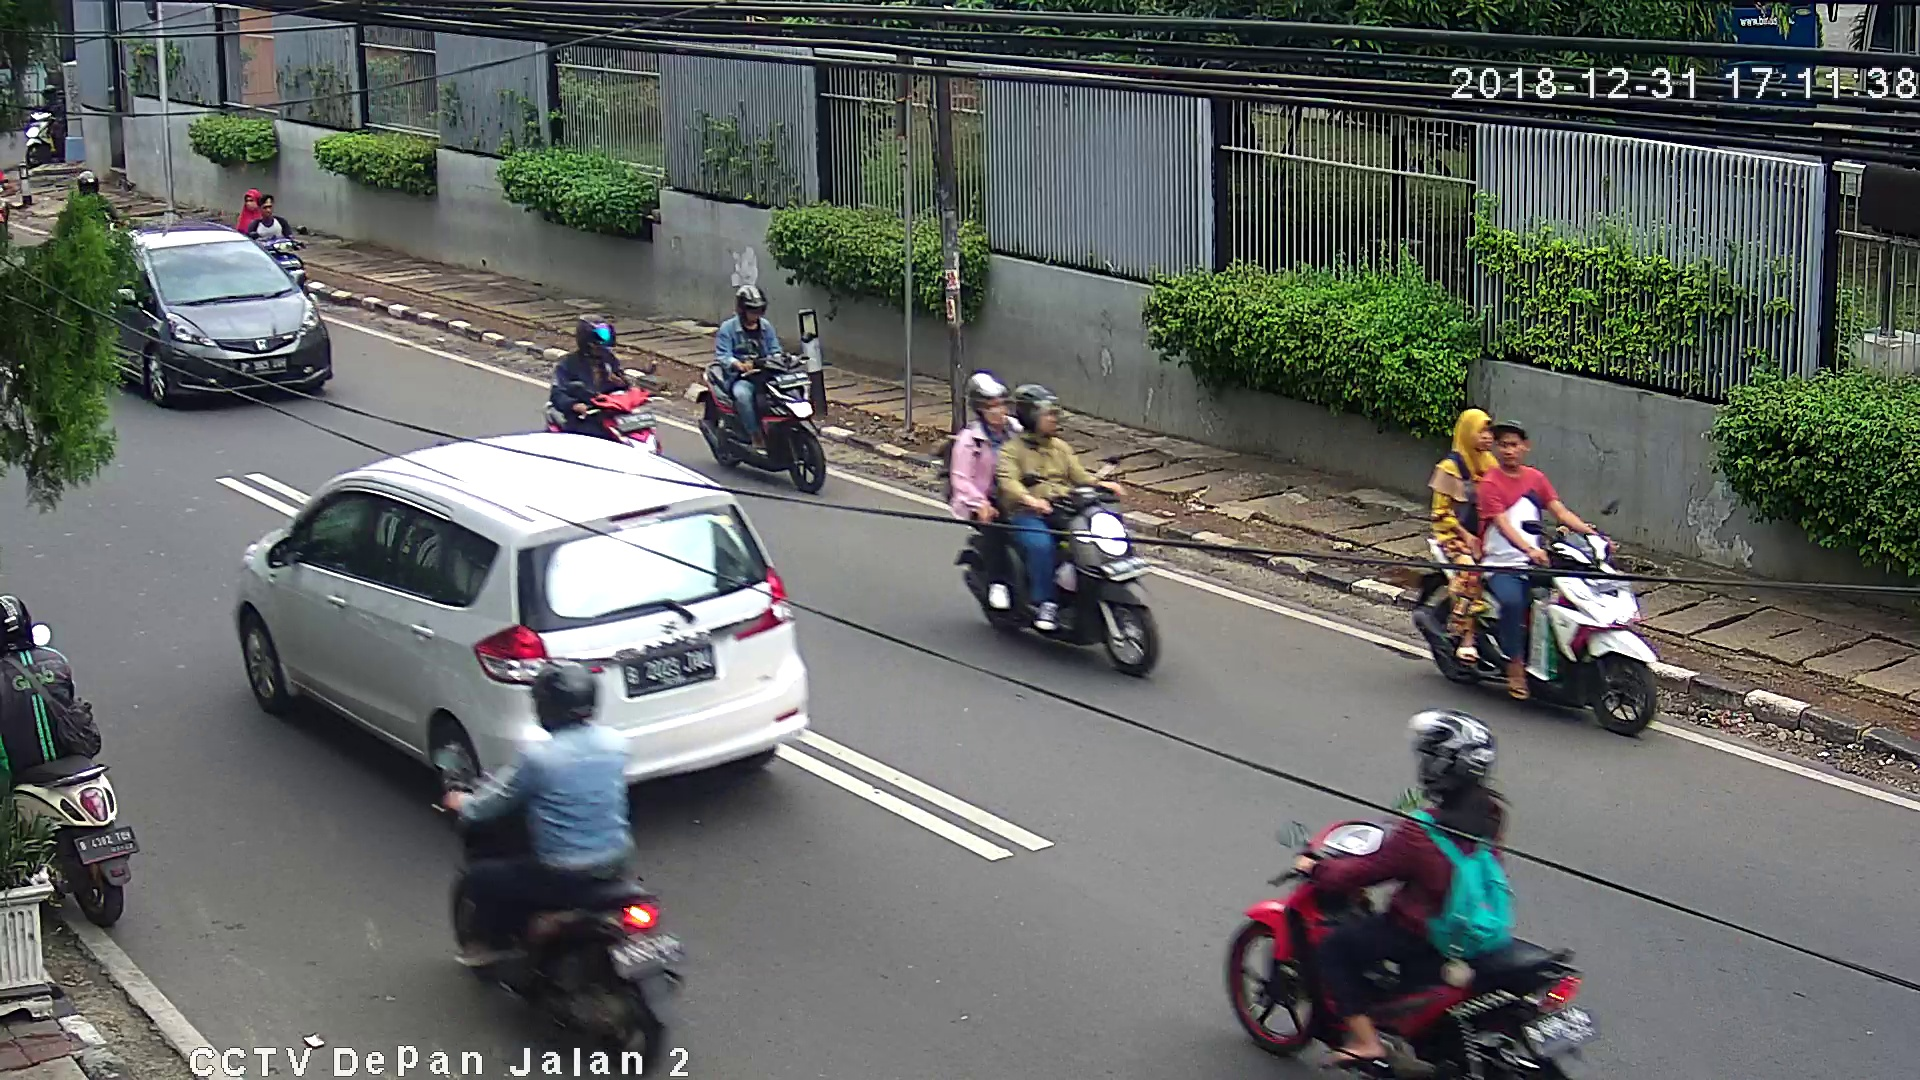car: (233, 436, 811, 818), (99, 223, 336, 409)
motorcycle: (1222, 707, 1611, 1076), (422, 659, 687, 1060), (1414, 396, 1665, 740), (944, 368, 1163, 687), (1, 587, 148, 940), (691, 284, 847, 502), (531, 309, 659, 434)
